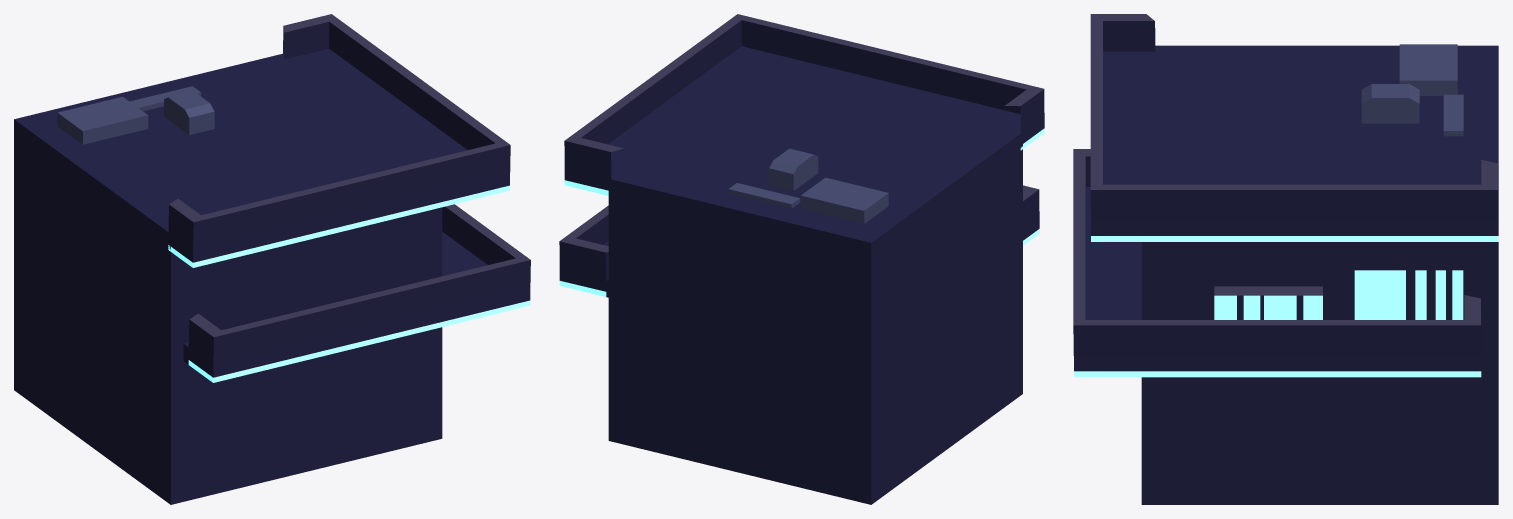
Rendered from Building 3_3.fbx.
3 views of the same model, side by side, from view 1: azimuth 30°, elevation 25°; view 2: azimuth 150°, elevation 25°; view 3: azimuth 270°, elevation 25° (orthographic). The views are drawn at different scales.
Visible parts, largest first — view 1: Cube.058; view 2: Cube.058; view 3: Cube.058.
Part boxes in pixels (left/top/right/bottom): Cube.058: left=14, top=14, right=530, bottom=504; Cube.058: left=559, top=14, right=1044, bottom=504; Cube.058: left=1073, top=14, right=1498, bottom=504.
Bounding box in the file's own units: 15 × 12.97 × 14.69.
